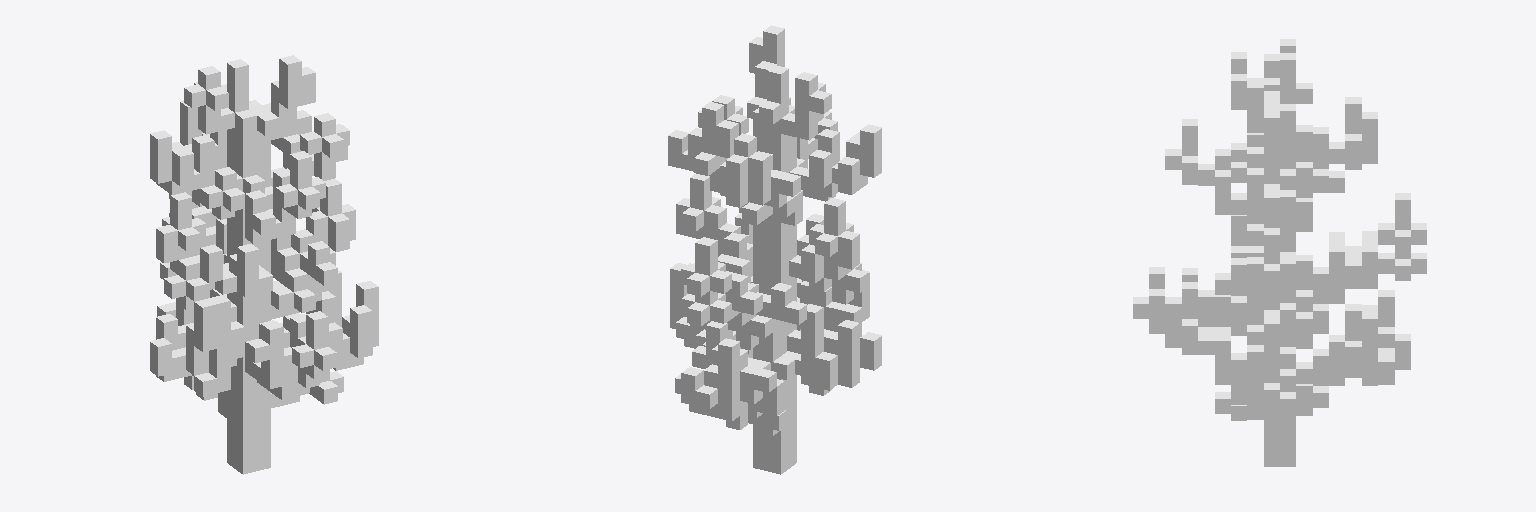
File: tree01.obj
3 renders of one model, left to right at view 1: azimuth 30°, elevation 25°; view 2: azimuth 150°, elevation 25°; view 3: azimuth 270°, elevation 25°, orthographic.
Visible parts, largest first — view 1: tree01; view 2: tree01; view 3: tree01.
Part boxes in pixels (bbox=[...]): tree01: bbox=[150, 55, 378, 474]; tree01: bbox=[668, 25, 881, 474]; tree01: bbox=[1133, 39, 1426, 466].
Bounding box in the file's own units: 15 × 28 × 18.